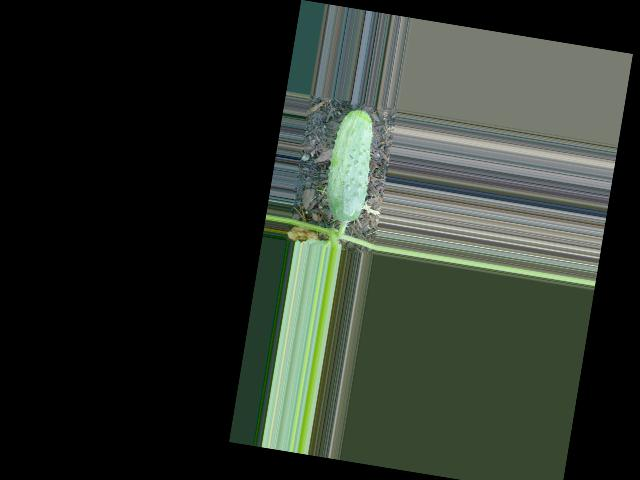cucumber: (321, 105, 379, 224)
